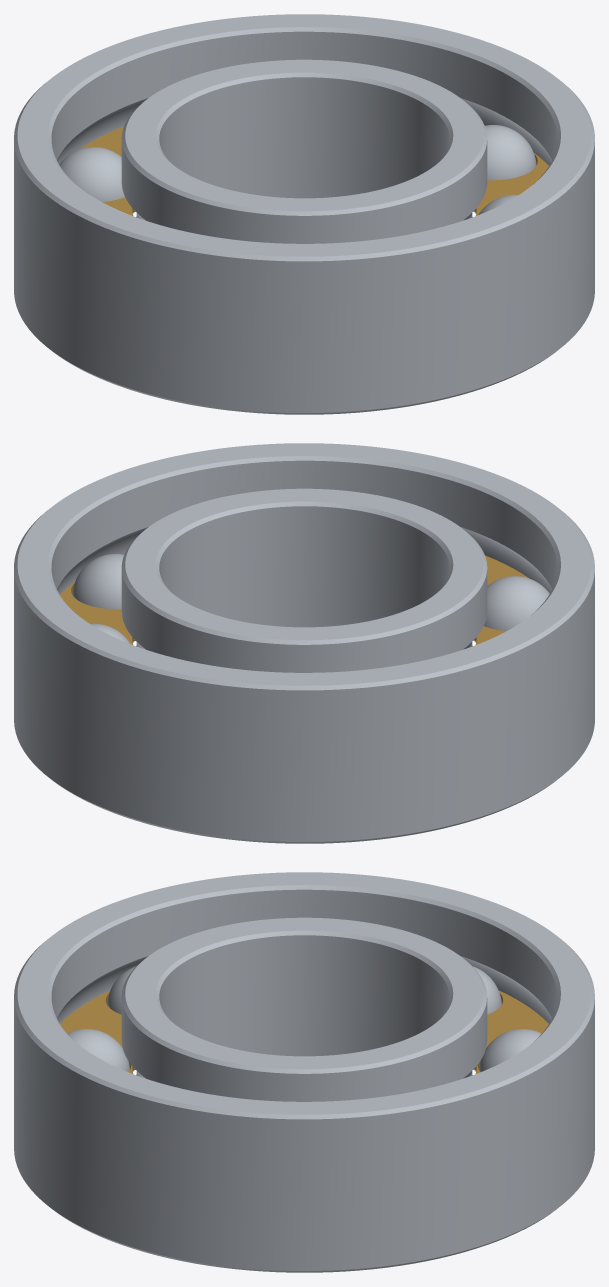
Rendered from ball.glb.
3 renders of one model, top to bottom at view 1: azimuth 30°, elevation 25°; view 2: azimuth 150°, elevation 25°; view 3: azimuth 270°, elevation 25°, orthographic.
Visible parts, largest first — view 1: outer_race, inner_race, ball_0005, ball_0000, cage; view 2: outer_race, inner_race, ball_0003, ball_0000, cage; view 3: outer_race, inner_race, cage, ball_0002, ball_0006.
Boxes of the visible parts, x1=… form: outer_race: x1=14, y1=14, x2=594, y2=414; inner_race: x1=121, y1=59, x2=487, y2=243; ball_0005: x1=59, y1=147, x2=124, y2=201; ball_0000: x1=485, y1=125, x2=536, y2=180; cage: x1=80, y1=126, x2=548, y2=215; outer_race: x1=14, y1=443, x2=594, y2=843; inner_race: x1=121, y1=488, x2=487, y2=672; ball_0003: x1=484, y1=576, x2=549, y2=630; ball_0000: x1=72, y1=554, x2=123, y2=609; cage: x1=60, y1=555, x2=528, y2=644; outer_race: x1=14, y1=872, x2=594, y2=1272; inner_race: x1=121, y1=917, x2=487, y2=1101; cage: x1=60, y1=990, x2=548, y2=1073; ball_0002: x1=67, y1=1029, x2=129, y2=1071; ball_0006: x1=479, y1=1029, x2=541, y2=1071.
Size of the model in its own units: 0.04 by 0.012 by 0.04.
